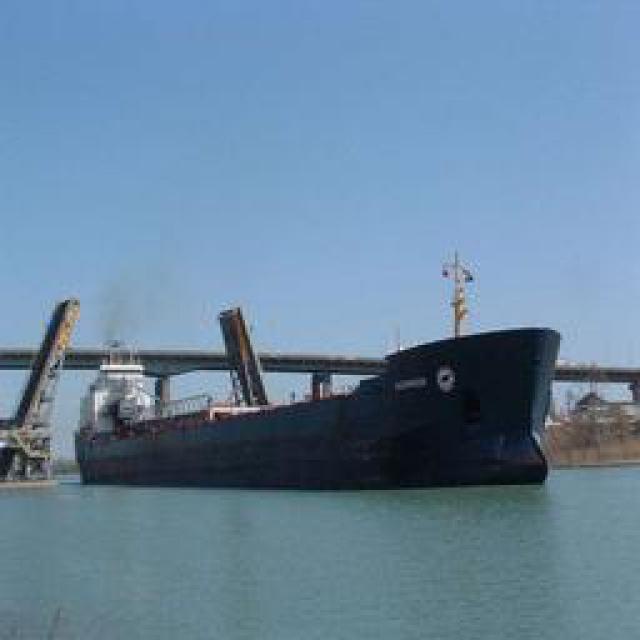Ship: (79, 313, 574, 491)
